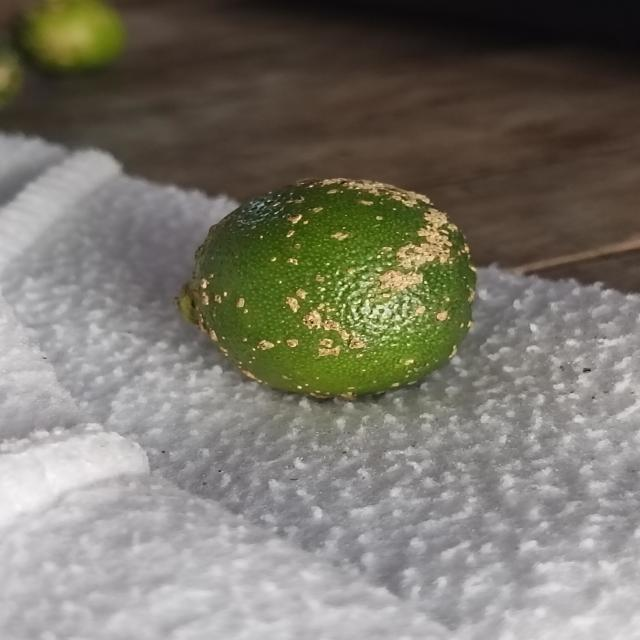scab: (180, 176, 482, 400)
